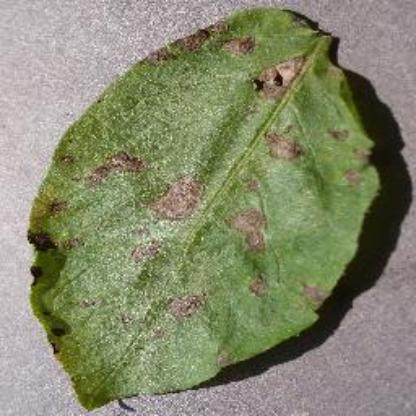Early-Blight: (27, 6, 393, 408)
